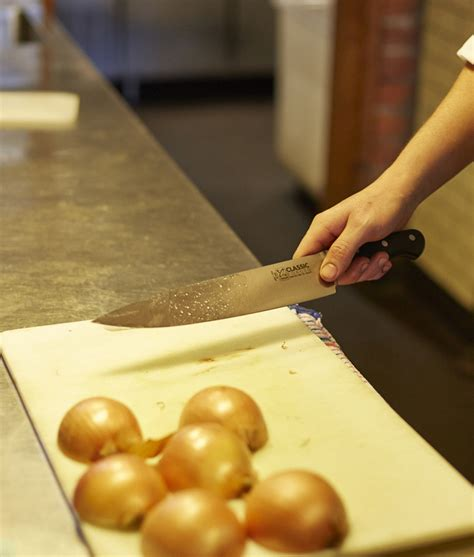knife: (88, 228, 425, 329)
